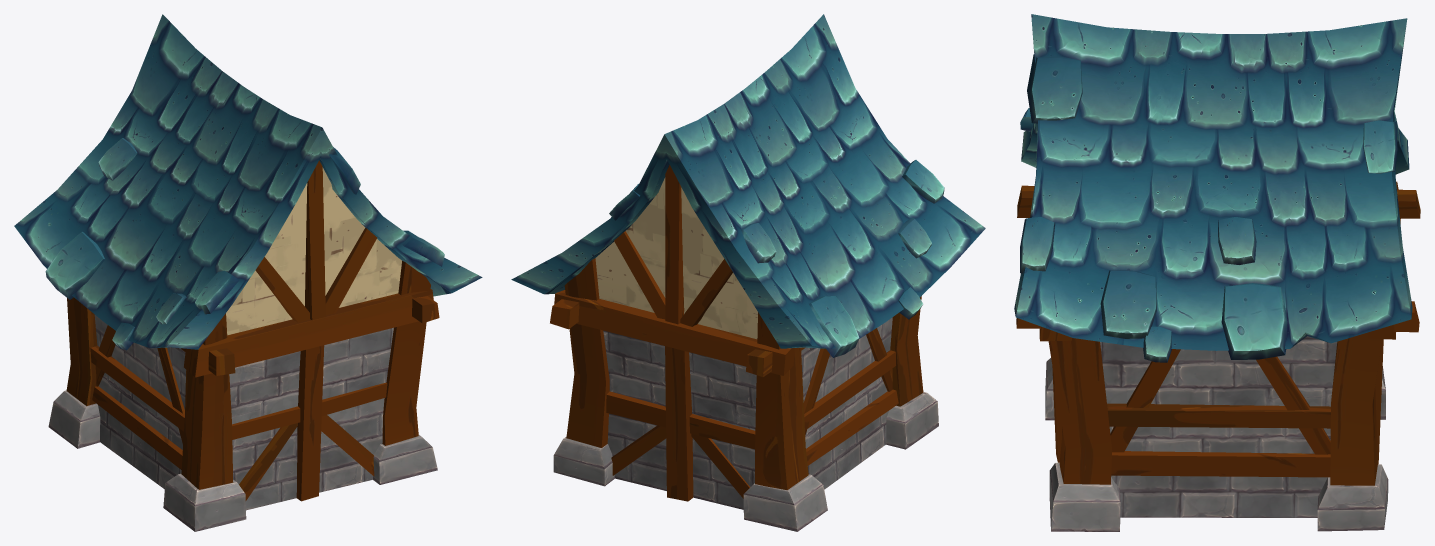
Rendered from SM_BLD_body_v03_01.glb.
3 renders of one model, left to right at view 1: azimuth 30°, elevation 25°; view 2: azimuth 150°, elevation 25°; view 3: azimuth 270°, elevation 25°, orthographic. The views are drawn at different scales.
Visible parts, largest first — view 1: SM_BLD_body_v03_01_EXPORT; view 2: SM_BLD_body_v03_01_EXPORT; view 3: SM_BLD_body_v03_01_EXPORT.
Boxes of the visible parts, <box> form: SM_BLD_body_v03_01_EXPORT: <box>14,14,482,531</box>; SM_BLD_body_v03_01_EXPORT: <box>511,14,985,531</box>; SM_BLD_body_v03_01_EXPORT: <box>1014,14,1420,531</box>.
Size of the model in its own units: 7.22 by 8.36 by 6.9.
Materials: 4 (4 with a texture image).
